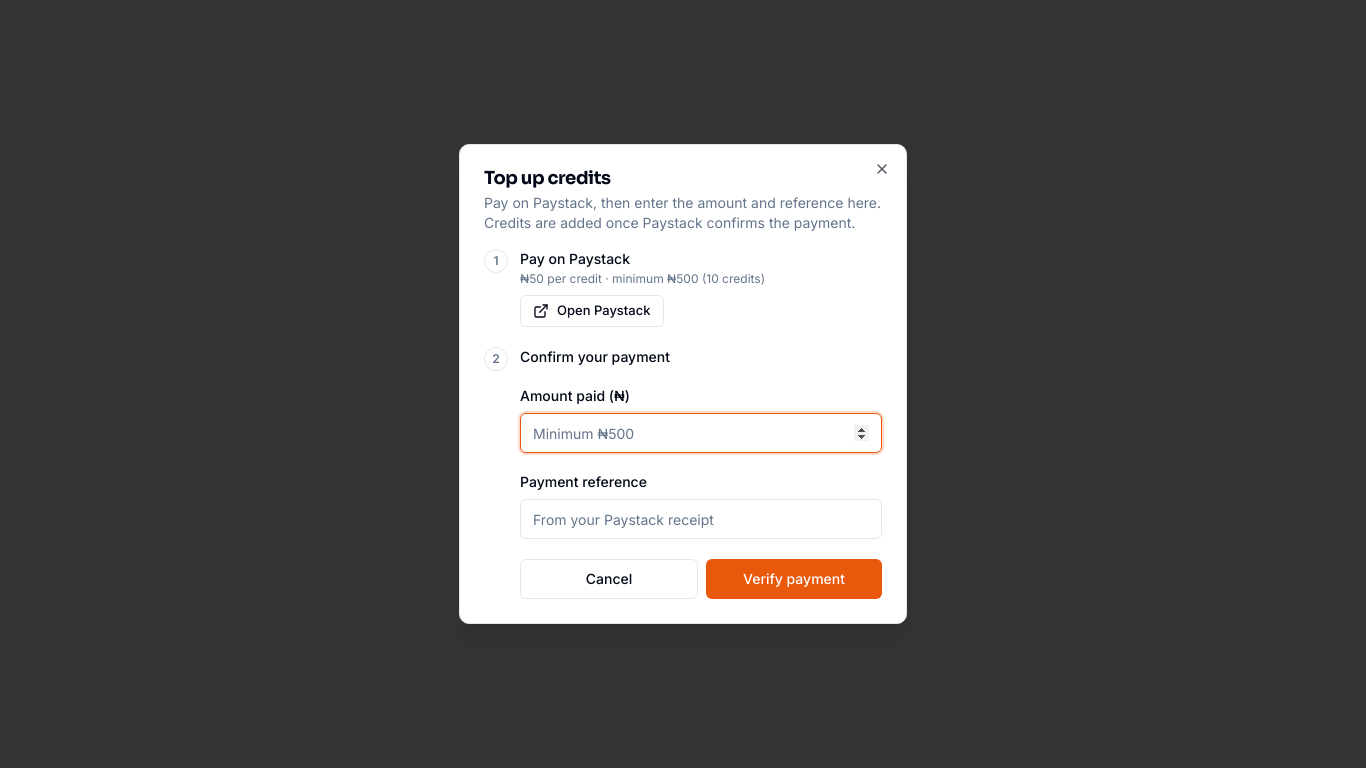
TopUpCreditsModal › shows a validation error when the amount is below the minimum
This screenshot has width=1366, height=768.
Type "100" into the number field labelled "Amount paid (₦)" at (701, 433), box [520,413,882,453]
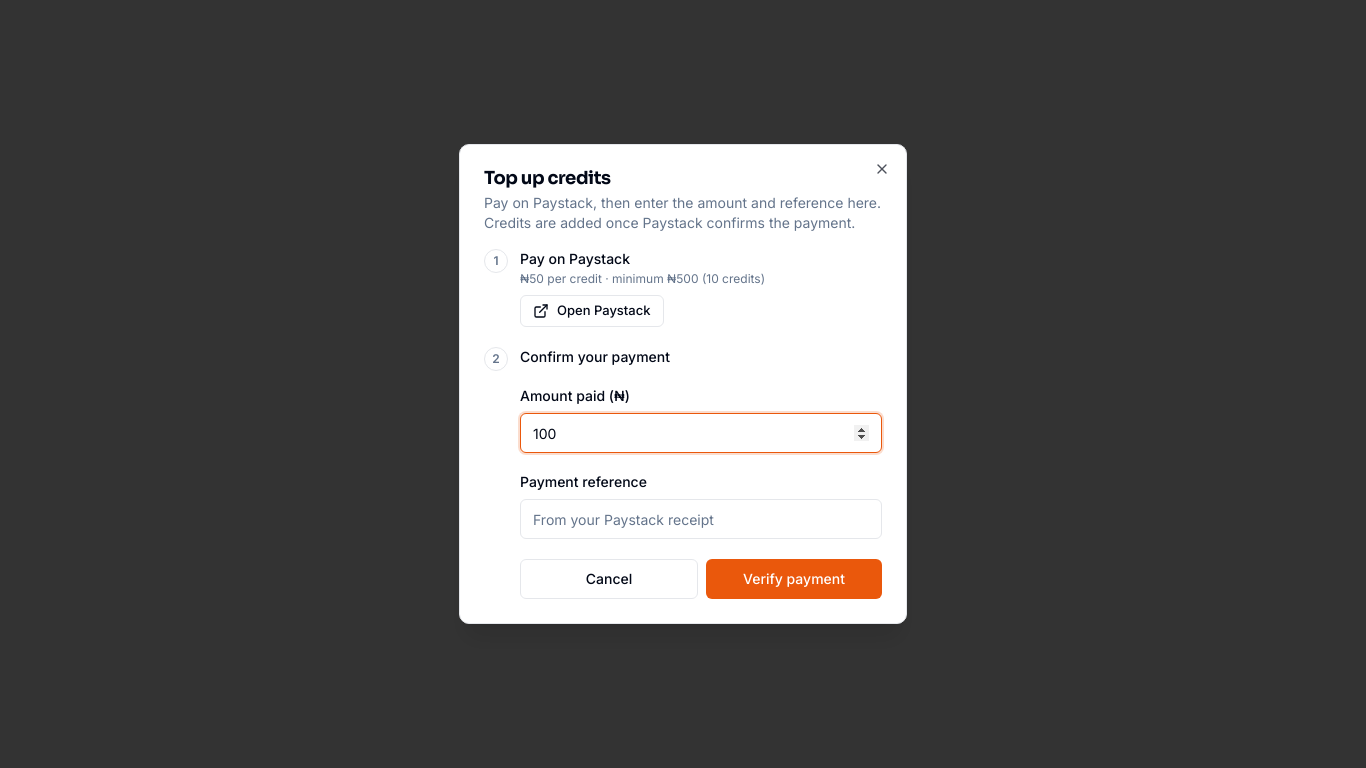
Type "ref-1" into the field labelled "Payment reference" at (701, 519), box [520,499,882,539]
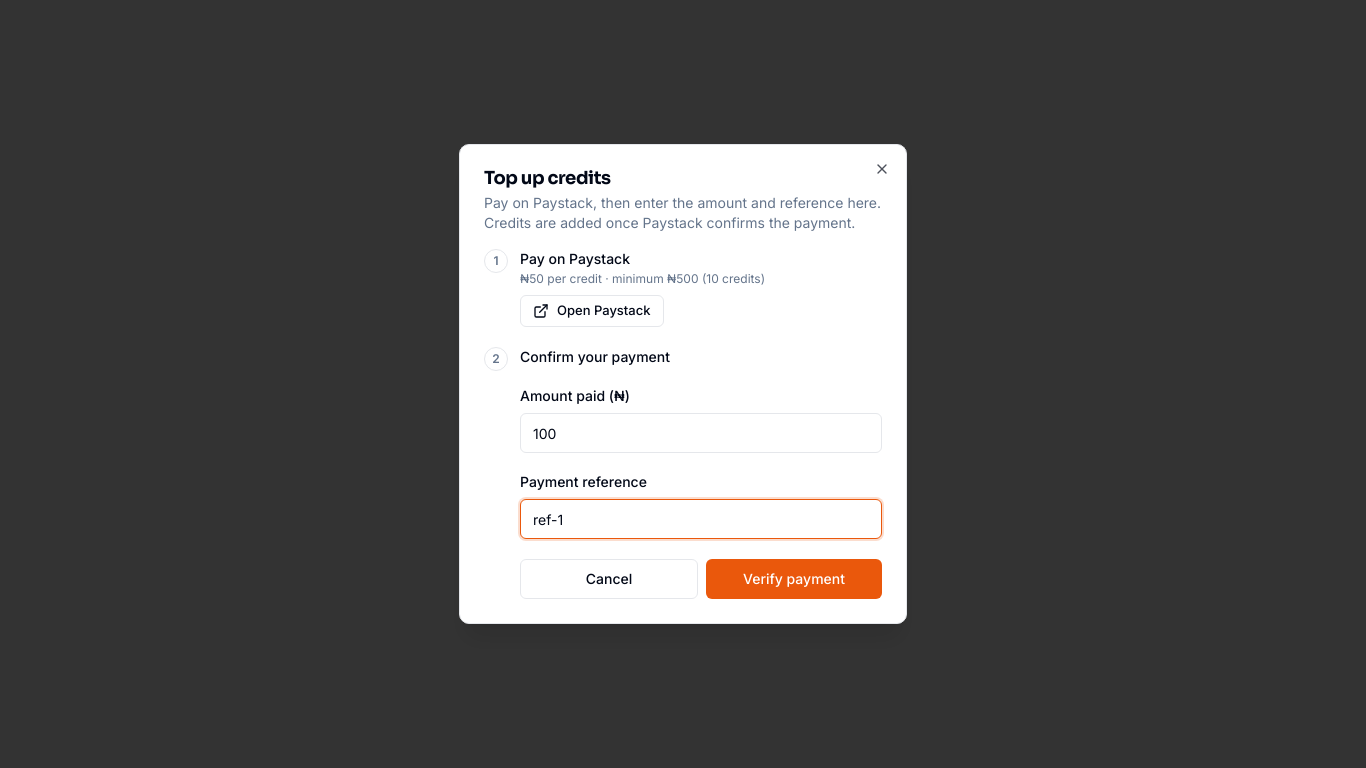
Click the button "Verify payment" at (794, 579), box [706,559,882,599]
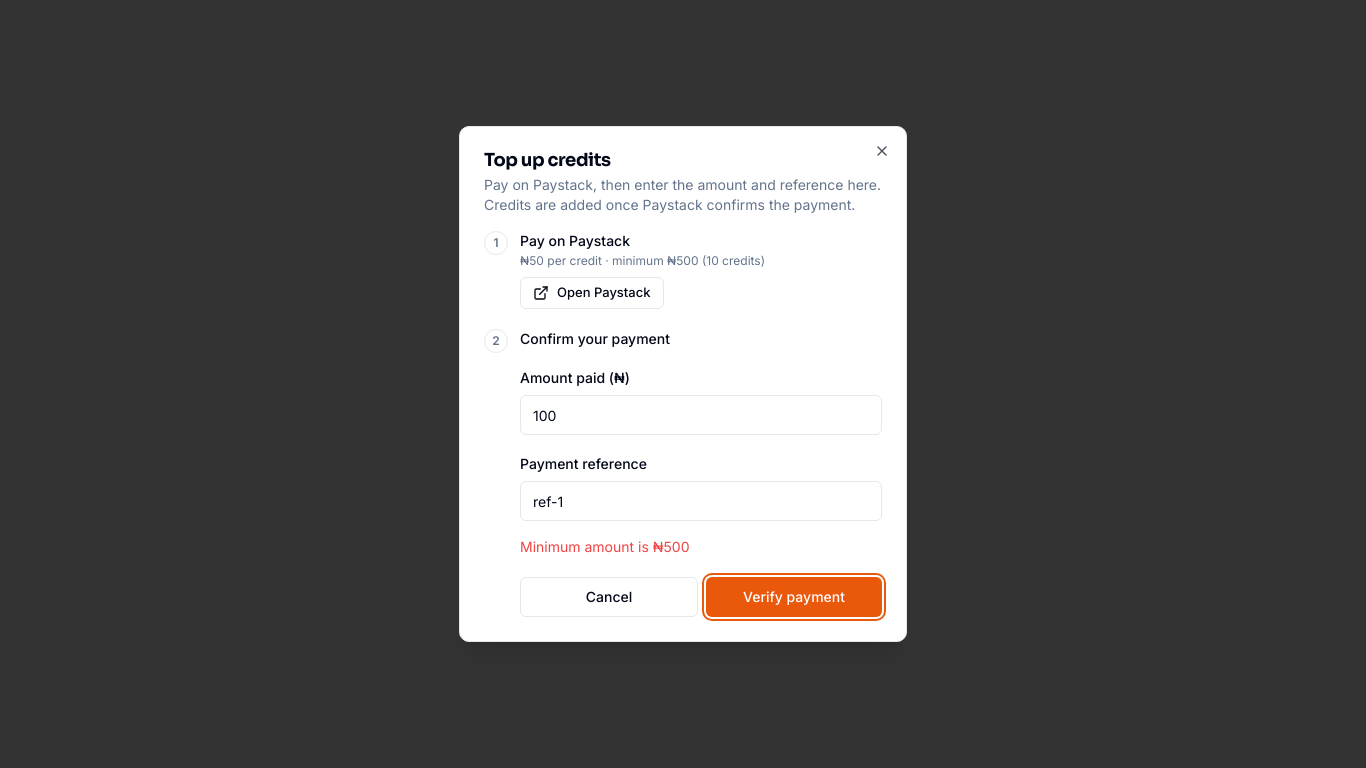
Expected: the text "Minimum amount is ₦500" is shown, [520,538,690,555]
